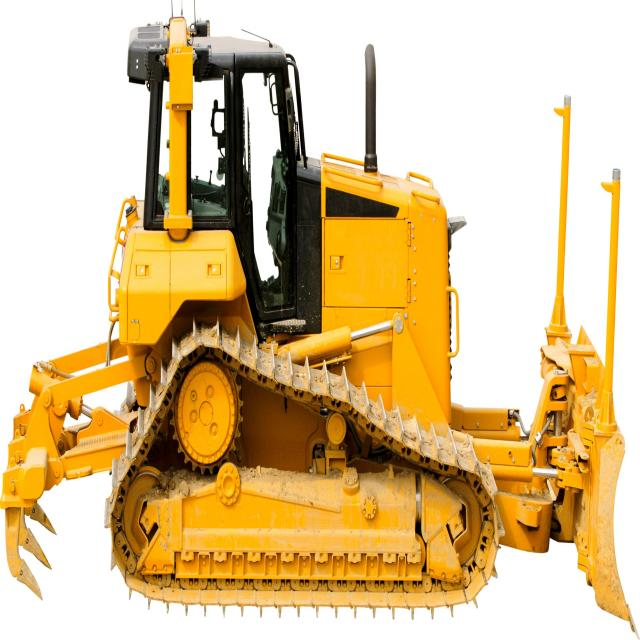Bulldozer: (17, 3, 640, 640)
